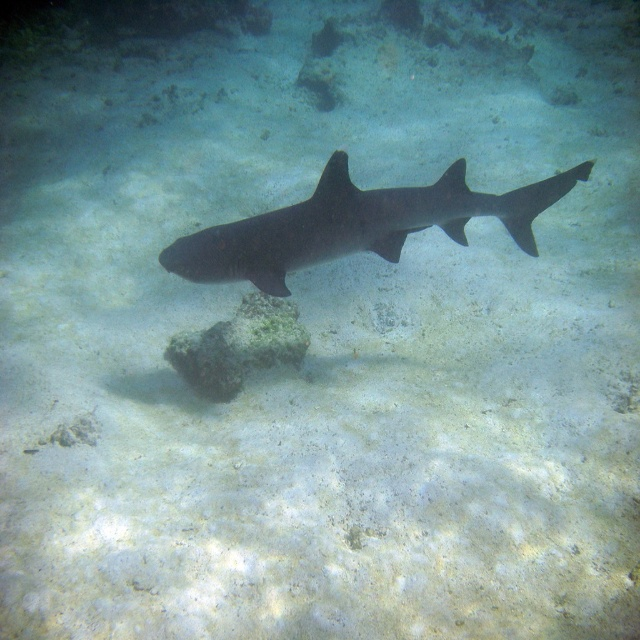Shark: (160, 151, 599, 294)
